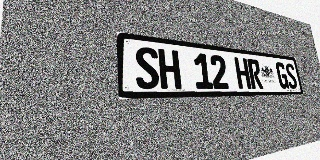1: (192, 52, 213, 89)
2: (209, 54, 229, 89)
G: (275, 62, 289, 89)
H: (158, 48, 182, 89), (234, 57, 251, 89)
R: (247, 59, 263, 89)
S: (134, 46, 160, 89), (284, 63, 298, 89)
